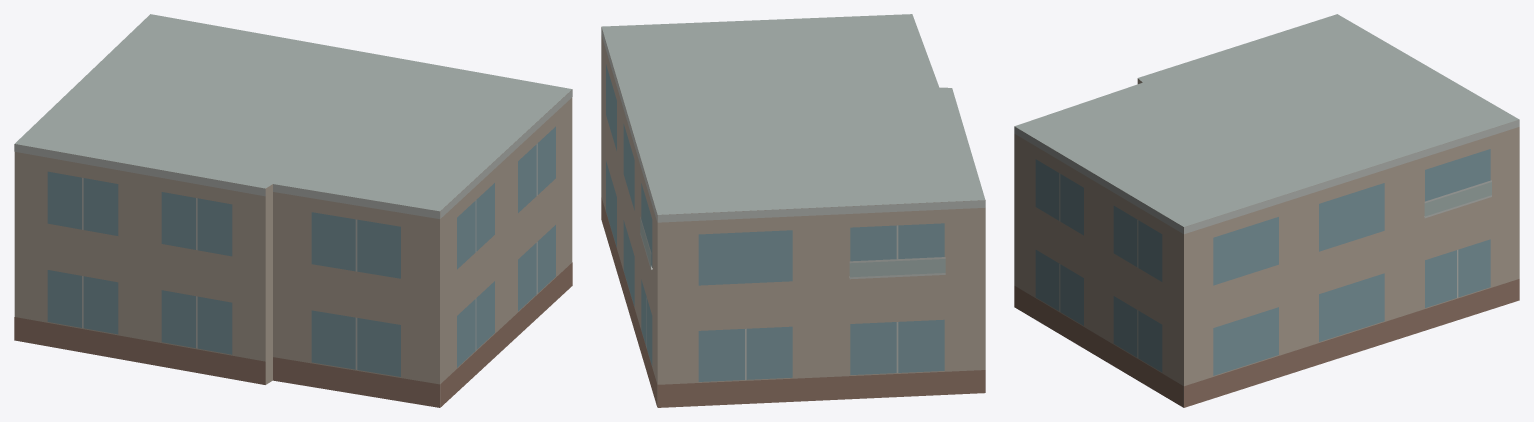
File: survey-upis-32640980.glb
3 views of the same model, side by side, from view 1: azimuth 30°, elevation 25°; view 2: azimuth 150°, elevation 25°; view 3: azimuth 270°, elevation 25° (orthographic). The views are drawn at different scales.
Parts seen in each view (by area): view 1: survey-upis-32640980.tmp; view 2: survey-upis-32640980.tmp; view 3: survey-upis-32640980.tmp.
Part boxes in pixels (x1=…): survey-upis-32640980.tmp: x1=14, y1=14, x2=572, y2=407; survey-upis-32640980.tmp: x1=601, y1=14, x2=985, y2=407; survey-upis-32640980.tmp: x1=1014, y1=14, x2=1519, y2=407.
Bounding box in the file's own units: 15.43 × 6.1 × 15.46.
